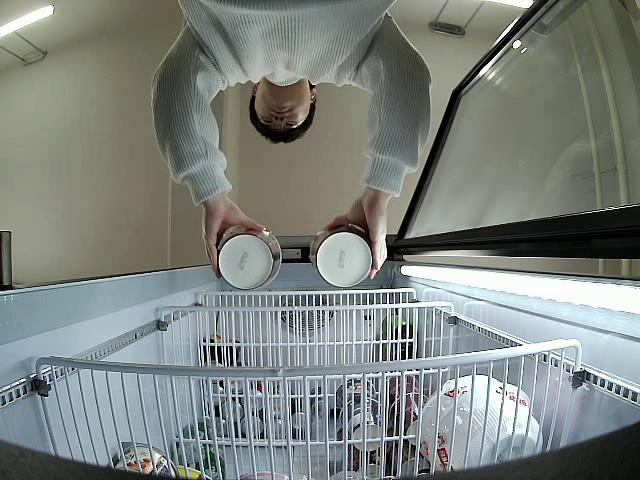00_hand: (323, 193, 389, 282), (203, 203, 265, 279)
05_nuguri_L: (217, 225, 282, 291), (309, 226, 373, 288)
